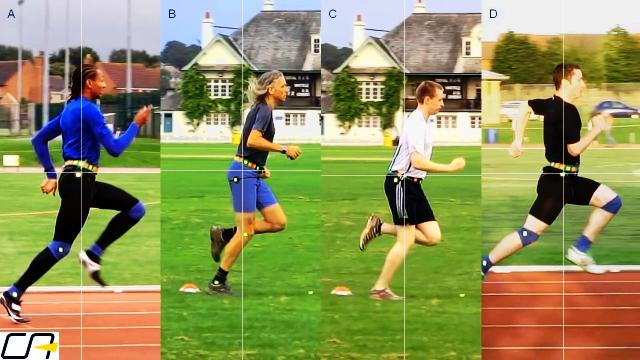berlari: (0, 57, 156, 310), (484, 57, 626, 282), (185, 52, 302, 300), (358, 75, 466, 313)
